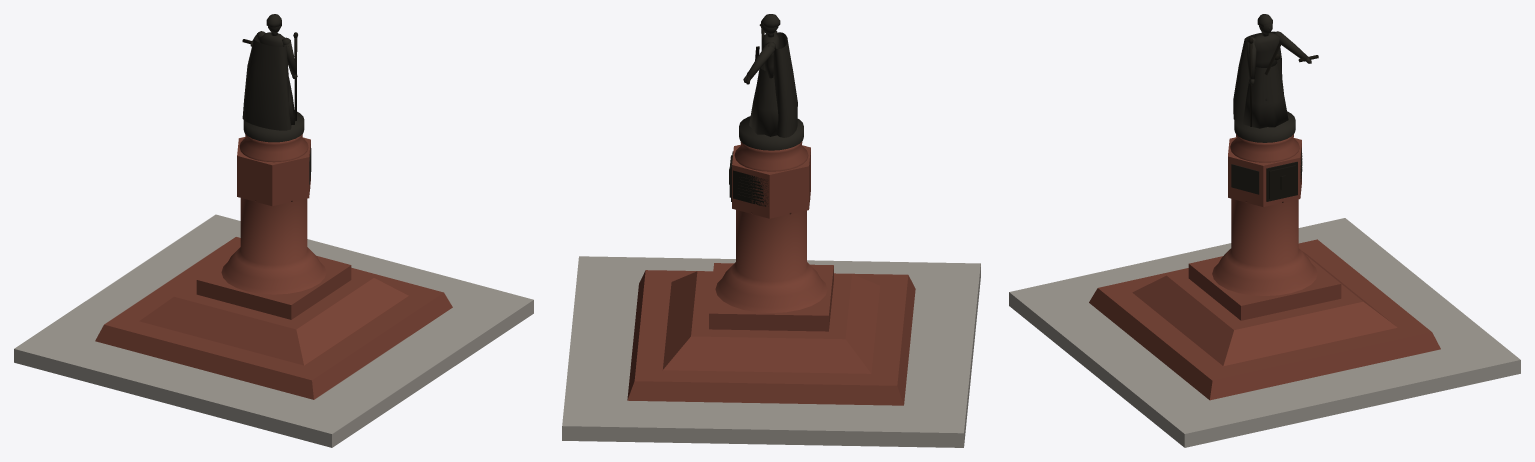
The model's file is ekaterina2.glb.
3 renders of one model, left to right at view 1: azimuth 30°, elevation 25°; view 2: azimuth 150°, elevation 25°; view 3: azimuth 270°, elevation 25°, orthographic. The views are drawn at different scales.
Parts seen in each view (by area): view 1: ekaterina2_wall2, ekaterina2_stone, ekaterina2_wall3; view 2: ekaterina2_wall2, ekaterina2_stone, ekaterina2_wall3, ekaterina2_metal; view 3: ekaterina2_wall2, ekaterina2_stone, ekaterina2_wall3, ekaterina2_metal.
Boxes of the visible parts, <box> form: ekaterina2_wall2: <box>95,134,452,399</box>; ekaterina2_stone: <box>14,214,533,447</box>; ekaterina2_wall3: <box>242,14,311,184</box>; ekaterina2_wall2: <box>627,141,915,405</box>; ekaterina2_stone: <box>562,256,980,447</box>; ekaterina2_wall3: <box>739,14,803,150</box>; ekaterina2_metal: <box>729,28,767,206</box>; ekaterina2_wall2: <box>1089,134,1440,400</box>; ekaterina2_stone: <box>1009,218,1520,447</box>; ekaterina2_wall3: <box>1231,14,1311,194</box>; ekaterina2_metal: <box>1248,38,1318,201</box>.
Bounding box in the file's own units: 14.03 × 9.85 × 14.03.
